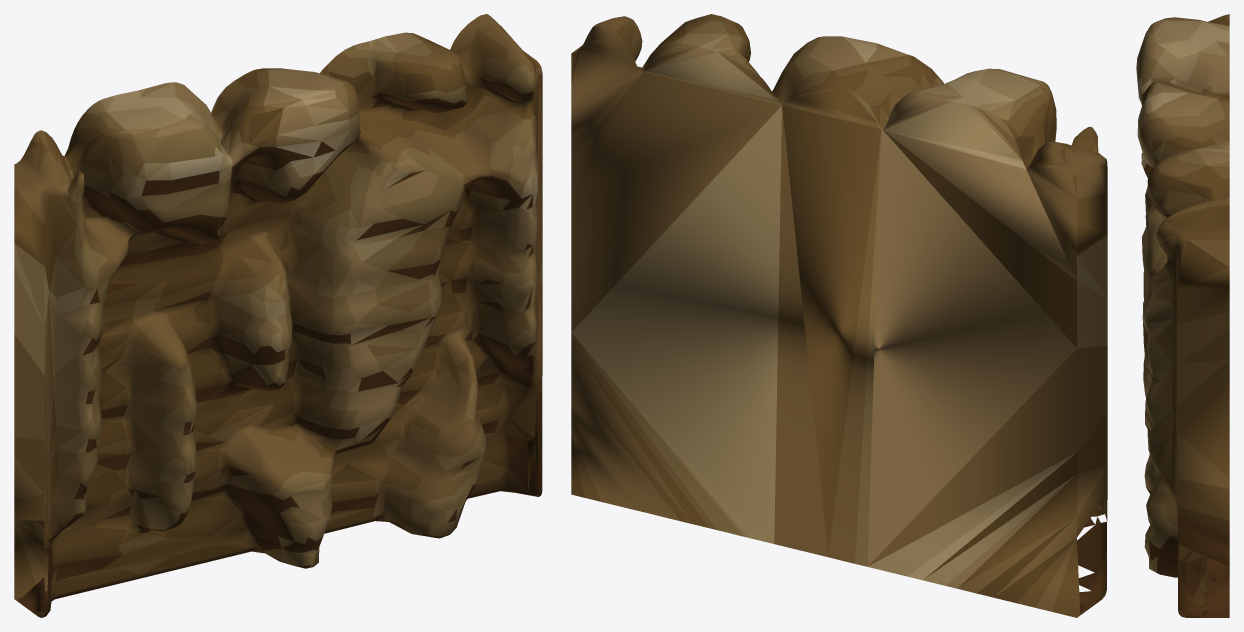
Rendered from ixm_wall_rock_low.glb.
3 renders of one model, left to right at view 1: azimuth 30°, elevation 25°; view 2: azimuth 150°, elevation 25°; view 3: azimuth 270°, elevation 25°, orthographic. The views are drawn at different scales.
Parts seen in each view (by area): view 1: ixm_wall_rock_low; view 2: ixm_wall_rock_low; view 3: ixm_wall_rock_low.
Boxes of the visible parts, x1,y1,x2,y2 form: ixm_wall_rock_low: [14, 14, 542, 617]; ixm_wall_rock_low: [571, 14, 1107, 617]; ixm_wall_rock_low: [1136, 14, 1229, 617].
Bounding box in the file's own units: 24 × 22.11 × 4.48.
